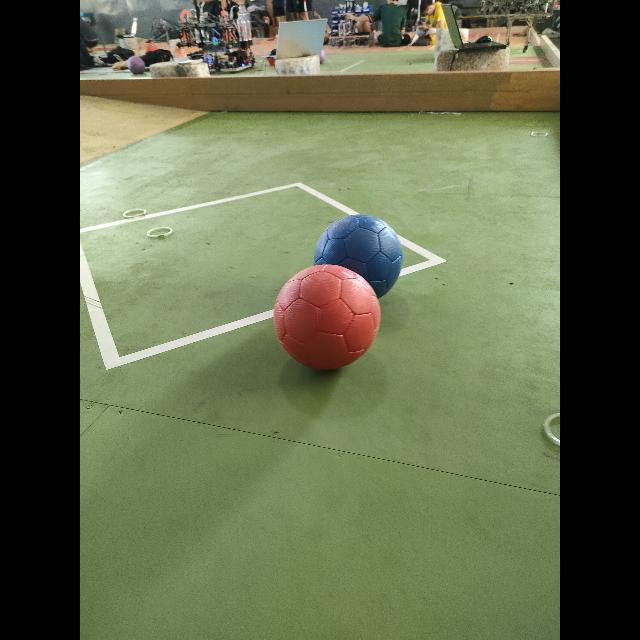B: (314, 215, 402, 298)
R: (274, 265, 380, 369)
